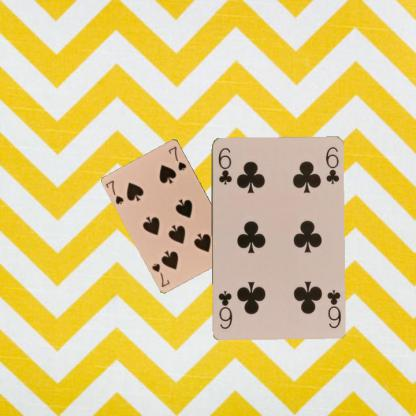6c: (215, 144, 233, 186), (324, 286, 342, 328)
7s: (104, 178, 126, 206)
